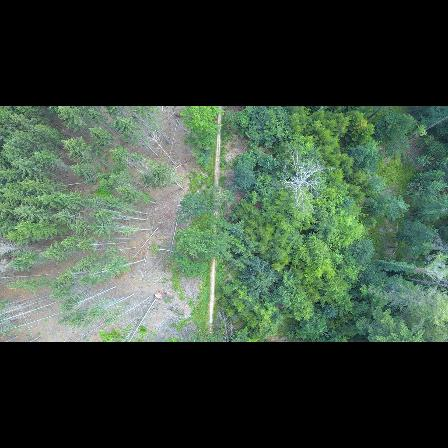Dead: (280, 161, 334, 211)
